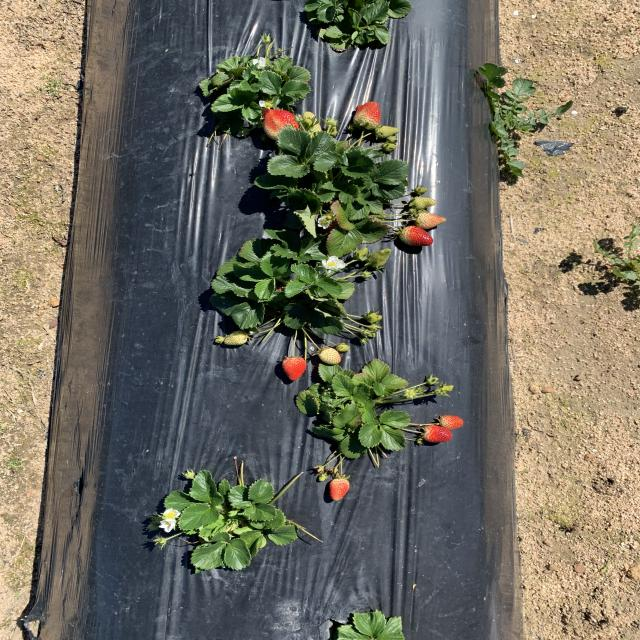unripe: (261, 107, 300, 139), (398, 225, 434, 247), (418, 424, 454, 445), (354, 101, 380, 129), (283, 356, 305, 380), (329, 479, 350, 502), (439, 416, 462, 429)
